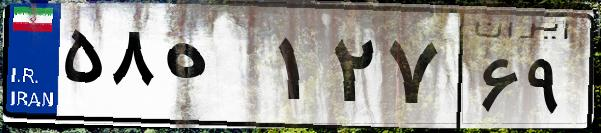1: (270, 28, 330, 110)
2: (330, 28, 385, 110)
5: (57, 26, 110, 100)
6: (475, 38, 525, 113)
7: (385, 28, 445, 110)
8: (110, 28, 158, 98)
9: (525, 38, 570, 115)
ه: (158, 20, 270, 120)
